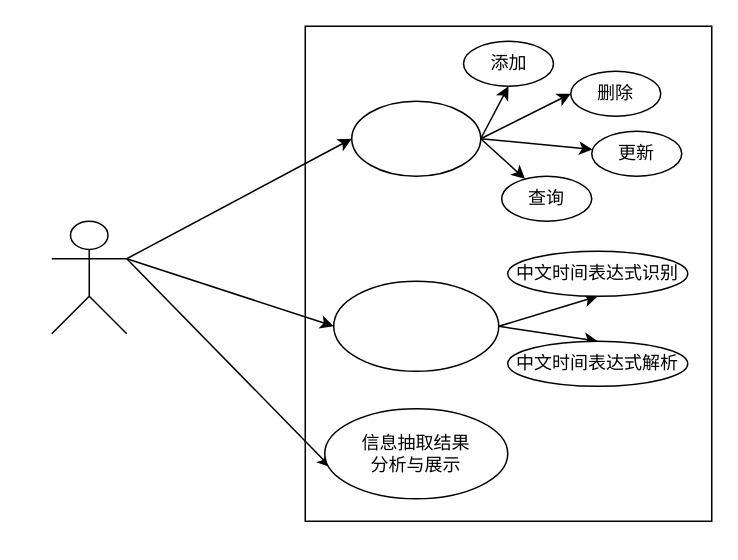
Image size: 738x560. Some labels were removed from this diagram. Here are the shapes that lost their labels. From the top down, the centre of each, then its label:
(415,138): MongoDB 数据库管理
(88,277): 开发人员用例图
(415,325): 中文时间表达式 识别与解析
